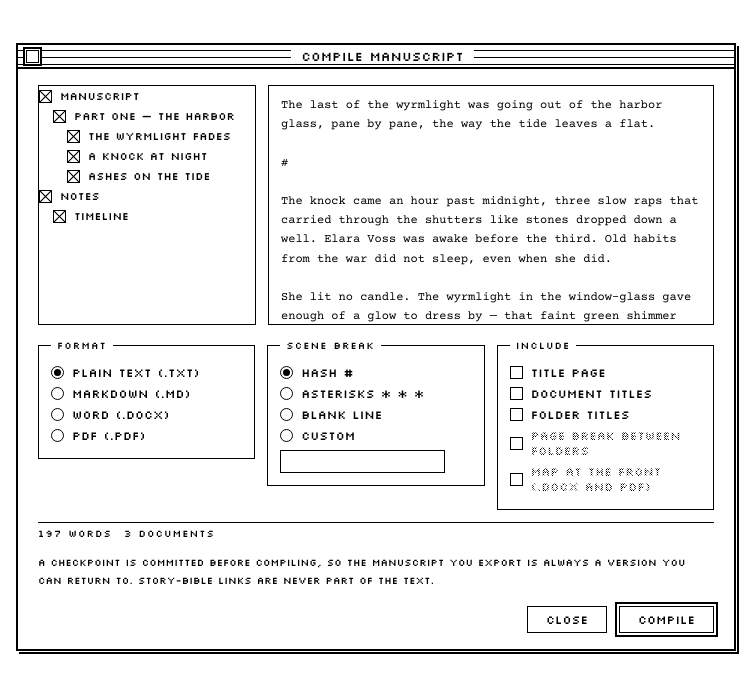
Test: compile dialog › reports a failed export in the dialog instead of taking the app down
Expected: the checkbox labelled "Notes" is shown, [39,186,255,206]
Click the button "Compile" at (666, 620), box [619,606,714,633]
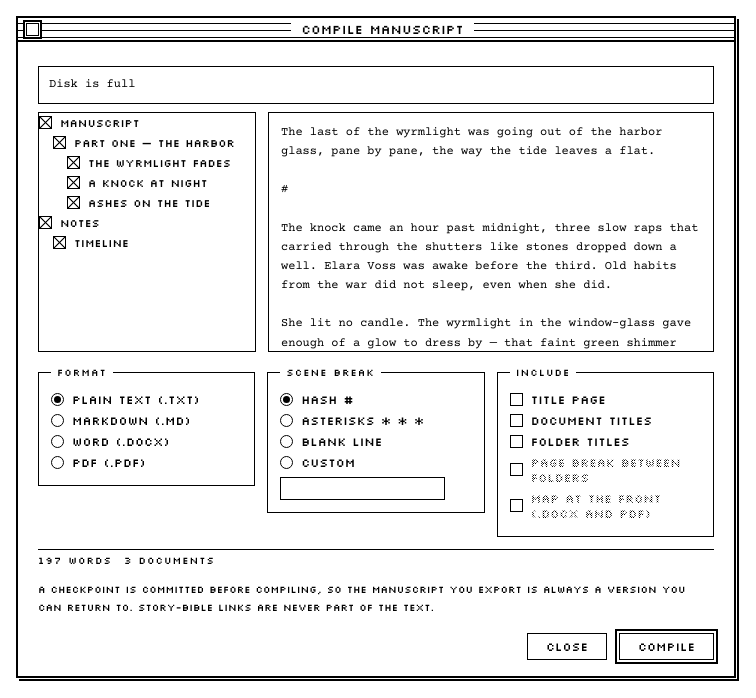
Expected: the button "Compile" is shown, [619,633,714,660]
Expected: the text "Disk is full" is shown, [38,66,714,104]
